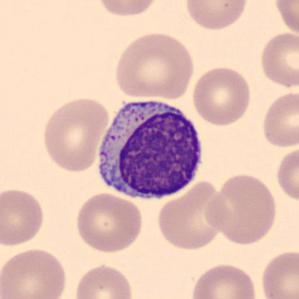Lymphocyte: (92, 92, 208, 205)
RBC: (111, 29, 196, 100), (202, 171, 280, 246), (154, 178, 230, 252), (40, 95, 110, 173), (73, 190, 145, 254), (190, 64, 253, 127), (0, 246, 70, 299), (0, 186, 47, 248), (188, 261, 260, 299), (257, 30, 298, 90), (72, 261, 135, 299), (259, 90, 298, 150), (258, 247, 298, 299), (183, 0, 250, 31), (274, 144, 298, 204), (94, 0, 162, 19), (272, 0, 298, 38)
